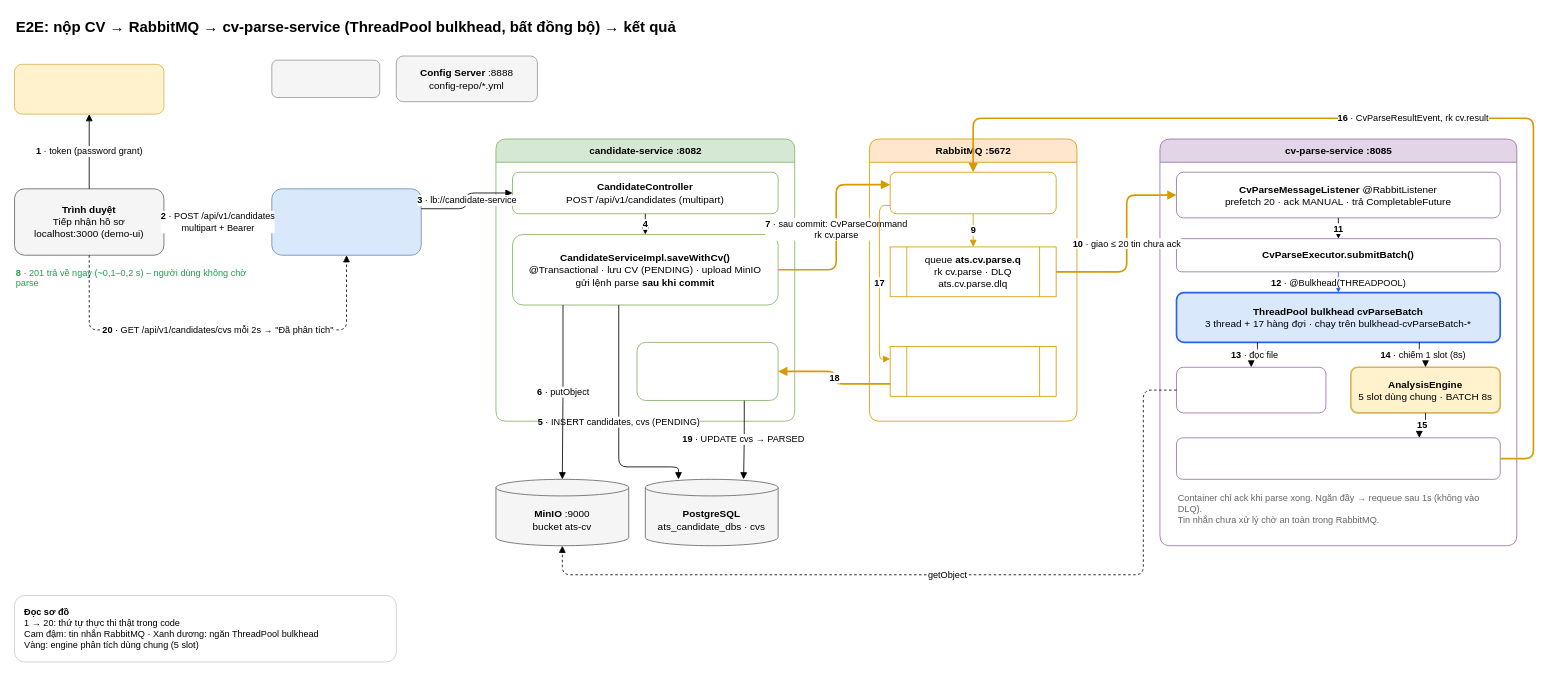
Some shapes in this 1555 by 676 pixel diagram are drawn without their labels. The shapes that lost their labels are listed below. From the top down, each one's centre as x and y in pixels, then its label:
point 89,88: Keycloak :8180 realm ats · client ats-web
point 325,78: Eureka :8761
point 972,192: exchange ats.cv.exchange (direct)
point 346,221: API Gateway :8080 xác thực JWT → X-User-* route lb://… qua Eureka
point 707,371: CvParseResultListener → PARSED, parsed_data, parsed_at
point 972,371: queue ats.cv.result.q rk cv.result
point 1251,389: MinioCvFileReader đọc CV (UTF-8)
point 1338,458: CvParseServiceImpl.analyze() email, phone, skills, kinh nghiệm, học vấn…
